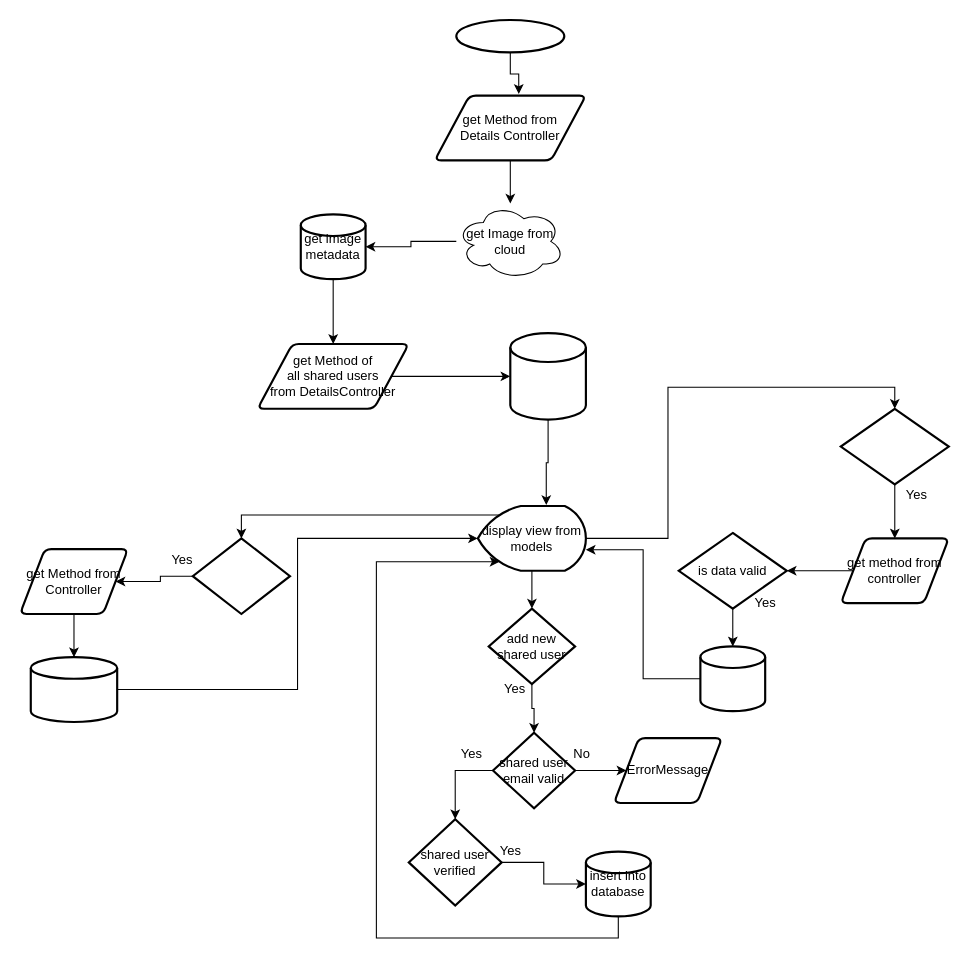
This 968x966 diagram has some shape labels left out. The centre of each missing label's shape, as x and y in pixels:
"delete data in database" goes at pixel 73 689.
"delete User" goes at pixel 241 576.
"get shared user details" goes at pixel 547 376.
"Start" goes at pixel 510 35.
"update data" goes at pixel 732 678.
"update Details" goes at pixel 894 446.
